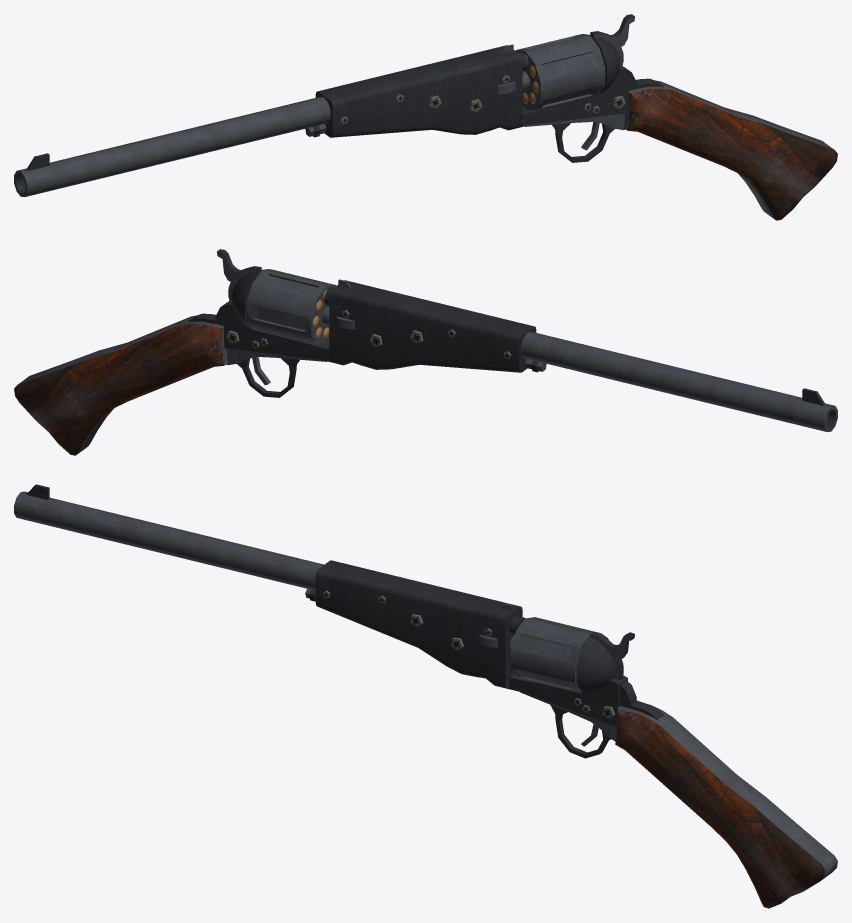
File: gun-02.fbx
3 views of the same model, one above another, from view 1: azimuth 30°, elevation 25°; view 2: azimuth 150°, elevation 25°; view 3: azimuth 330°, elevation 25° (orthographic).
Parts seen in each view (by area): view 1: Cylinder.083; view 2: Cylinder.083; view 3: Cylinder.083.
Boxes of the visible parts, <box> form: Cylinder.083: <box>14,14,837,220</box>; Cylinder.083: <box>14,249,837,455</box>; Cylinder.083: <box>14,484,837,908</box>.
Bounding box in the file's own units: 1.26 × 0.3547 × 0.0818.
